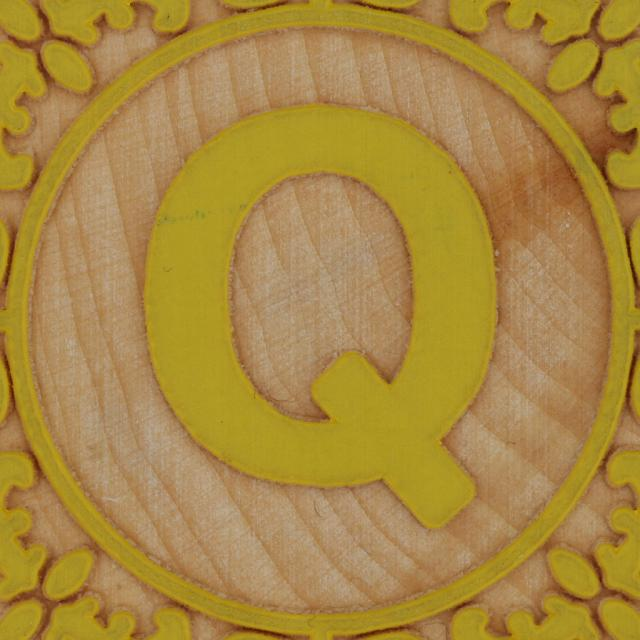Q: (125, 88, 522, 556)
